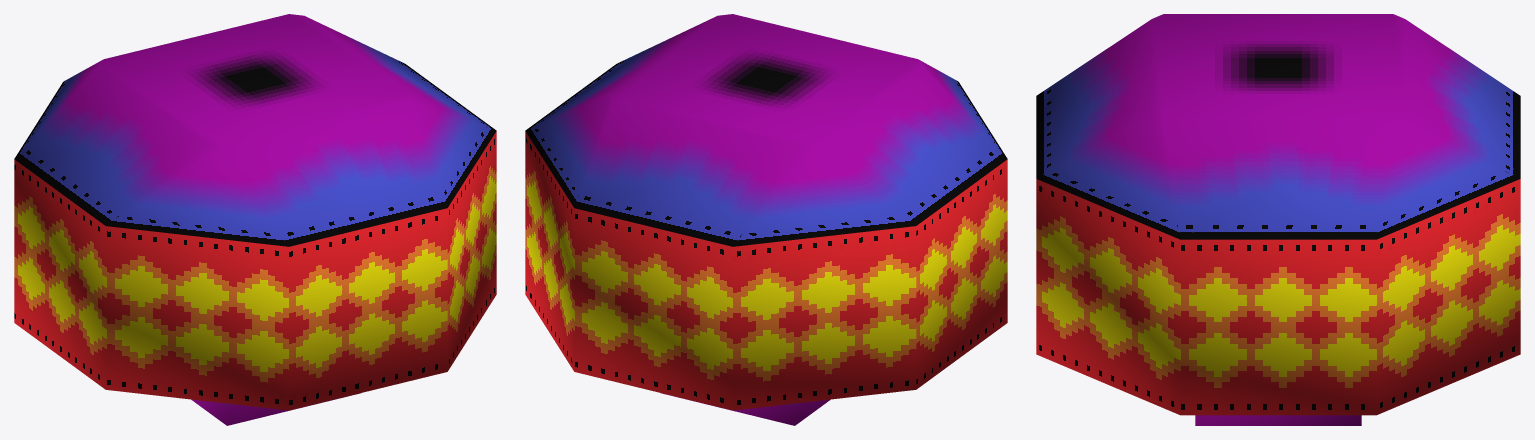
File: whacka.glb
3 renders of one model, left to right at view 1: azimuth 30°, elevation 25°; view 2: azimuth 150°, elevation 25°; view 3: azimuth 270°, elevation 25°, orthographic. The views are drawn at different scales.
Visible parts, largest first — view 1: Cube; view 2: Cube; view 3: Cube.
Part boxes in pixels (<box>): Cube: <box>14,14,496,425</box>; Cube: <box>525,14,1007,425</box>; Cube: <box>1036,14,1520,425</box>.
Size of the model in its own units: 4.07 by 3 by 4.07.
Materials: 4 (4 with a texture image).
